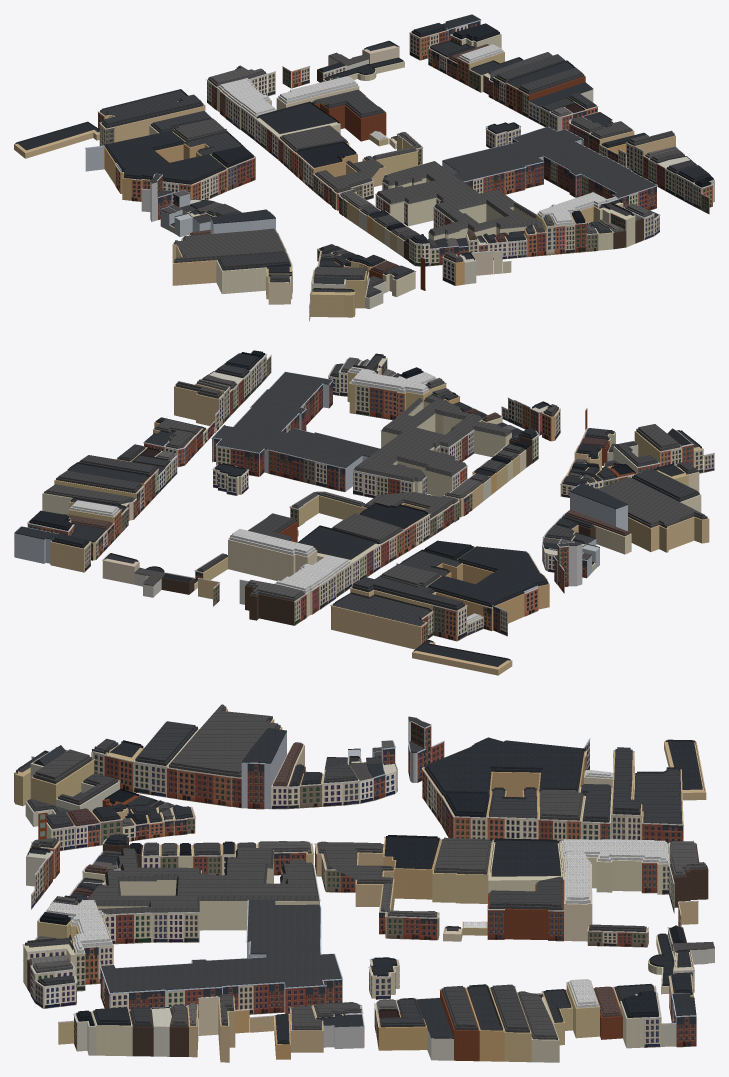
3 views of the same model, one above another, from view 1: azimuth 30°, elevation 25°; view 2: azimuth 150°, elevation 25°; view 3: azimuth 270°, elevation 25° (orthographic). The views are drawn at different scales.
Parts seen in each view (by area): view 1: bldg_179371956_roof, bldg_6990484_roof, bldg_783034057_roof_b, bldg_498882478_roof_b, bldg_6990484, bldg_494684918_roof_b, bldg_494684920, bldg_498882479, bldg_498882478, bldg_494692175, bldg_179371956_facade18, bldg_474067980_roof_b (+33 smaller); view 2: bldg_179371956_roof, bldg_6990484_roof, bldg_783034057_roof_b, bldg_6990484, bldg_498882478_roof_b, bldg_497466505, bldg_474067935, bldg_498882478, bldg_179371956_facade20, bldg_783034057, bldg_494684918_roof_b, bldg_497466505_roof_b (+38 smaller); view 3: bldg_179371956_roof, bldg_6990484_roof, bldg_783034057_roof_b, bldg_498882478_roof_b, bldg_6990484, bldg_494684918_roof_b, bldg_497466505_roof_b, bldg_474067980, bldg_494684917, bldg_474067980_roof_b, bldg_498882478_facade1, bldg_494688202_roof_b (+74 smaller).
Part boxes in pixels (x1,y1,x2,y2): bldg_179371956_roof: (443, 126, 656, 197); bldg_6990484_roof: (376, 161, 539, 236); bldg_783034057_roof_b: (105, 131, 224, 182); bldg_498882478_roof_b: (175, 228, 284, 260); bldg_6990484: (382, 178, 532, 240); bldg_494684918_roof_b: (258, 101, 337, 133); bldg_494684920: (314, 103, 385, 141); bldg_498882479: (216, 255, 291, 293); bldg_498882478: (172, 231, 286, 285); bldg_494692175: (310, 290, 355, 317); bldg_179371956_facade18: (463, 167, 526, 194); bldg_474067980_roof_b: (220, 78, 274, 114); bldg_179371956_roof: (212, 372, 379, 467); bldg_6990484_roof: (354, 394, 511, 482); bldg_783034057_roof_b: (428, 546, 546, 605); bldg_6990484: (363, 401, 511, 496); bldg_498882478_roof_b: (597, 477, 705, 526); bldg_497466505: (331, 605, 431, 649); bldg_474067935: (228, 538, 317, 580); bldg_498882478: (628, 516, 709, 552); bldg_179371956_facade20: (267, 449, 339, 490); bldg_783034057: (435, 564, 549, 630); bldg_494684918_roof_b: (298, 525, 376, 559); bldg_497466505_roof_b: (335, 592, 429, 623); bldg_179371956_roof: (101, 899, 341, 992); bldg_6990484_roof: (88, 848, 319, 914); bldg_783034057_roof_b: (426, 737, 585, 793); bldg_498882478_roof_b: (171, 704, 278, 774); bldg_6990484: (97, 854, 319, 942); bldg_494684918_roof_b: (491, 838, 560, 876); bldg_497466505_roof_b: (636, 767, 680, 820); bldg_474067980: (560, 842, 668, 894); bldg_494684917: (432, 840, 492, 903); bldg_474067980_roof_b: (563, 839, 665, 860); bldg_498882478_facade1: (176, 769, 232, 806); bldg_494688202_roof_b: (319, 841, 391, 881).
Bounding box in the file's own units: 298 × 21.99 × 270.
116 materials, 52 textured.
